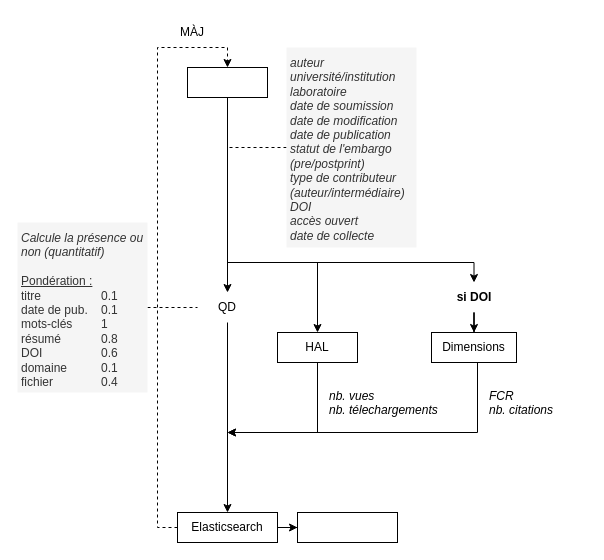
Some shapes in this 604 by 560 pixel diagram are drawn without their labels. Here are the shapes that lost their labels. From the top down, the centre of each, then its label:
At point 227,82: "HAL (API)".
At point 347,527: "Kibana".
